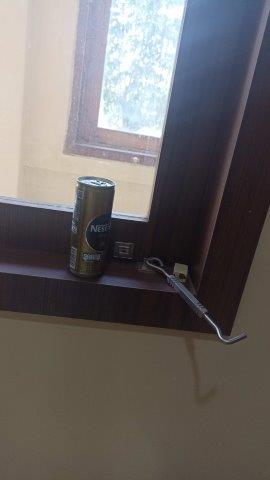kaleng: (69, 176, 116, 280)
